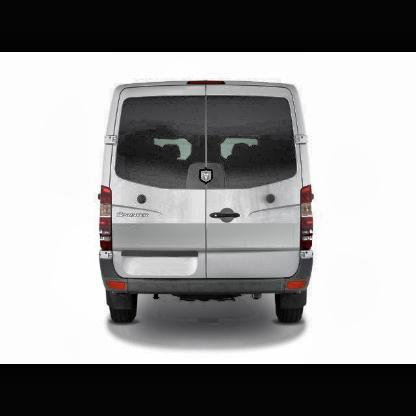Dodge Sprinter Cargo Van 2009: (99, 82, 316, 327)
